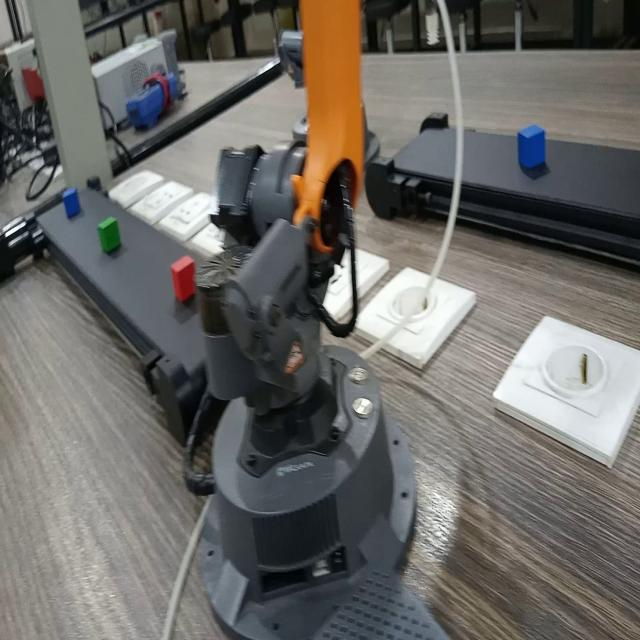cube: (515, 121, 553, 174), (167, 247, 200, 304), (95, 209, 123, 258), (61, 181, 83, 221)
